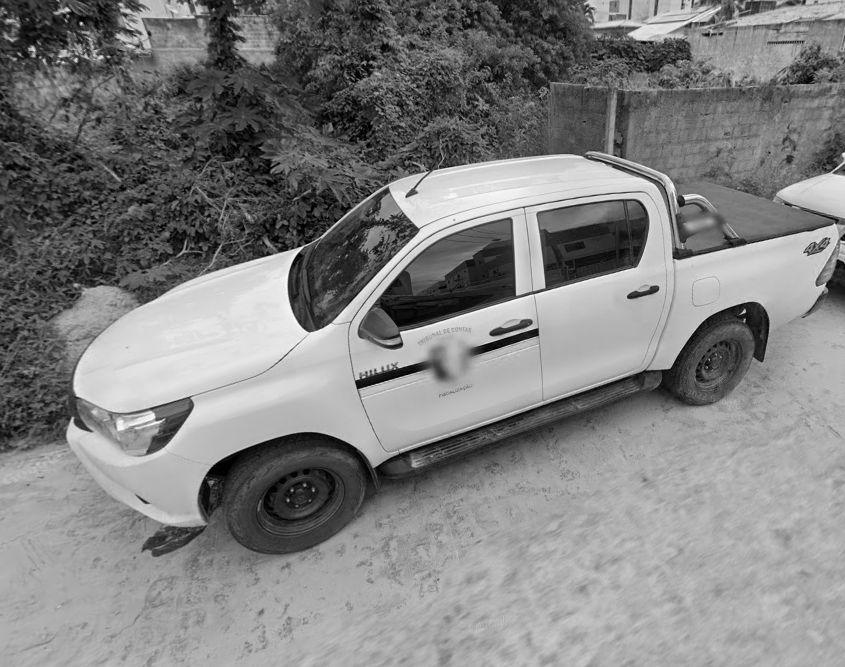car: (59, 147, 841, 558)
